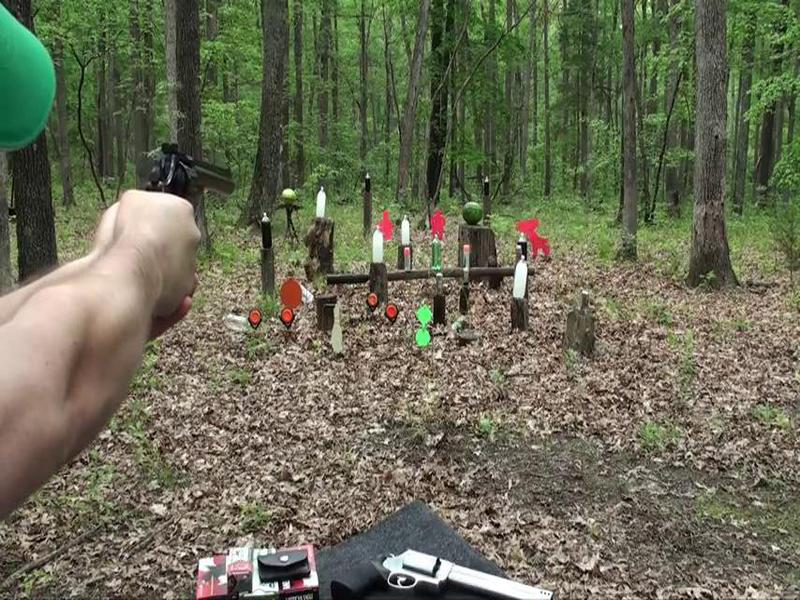Revolver: (136, 134, 243, 235)
